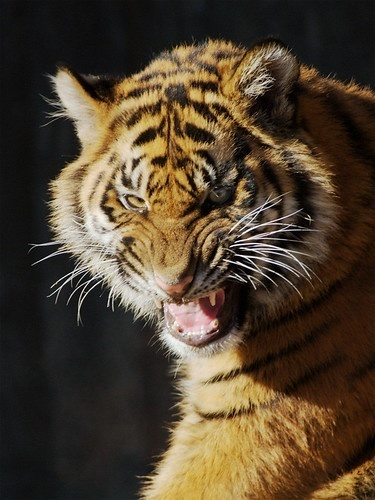tigre: (39, 40, 375, 500)
